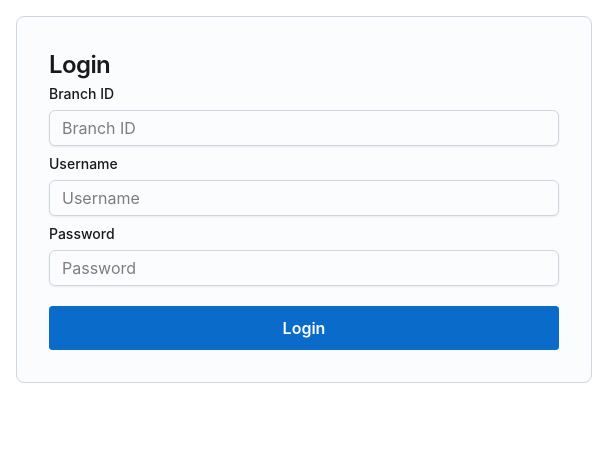
<Login /> › Login behavior › text fields are empty
Click the button: (304, 328) [49,306,559,350]
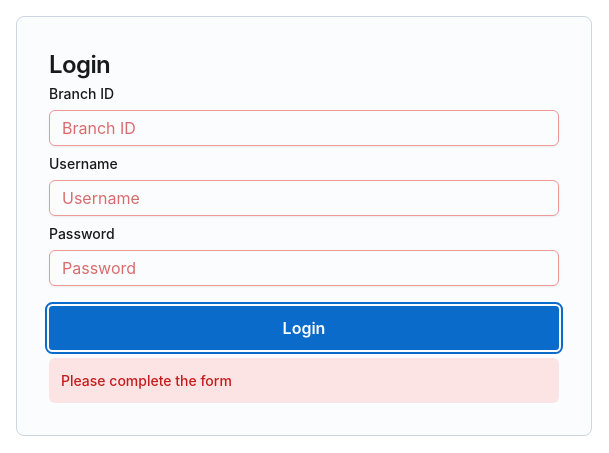
expect the text "Please complete the form" is shown: met, box [61,370,232,391]
